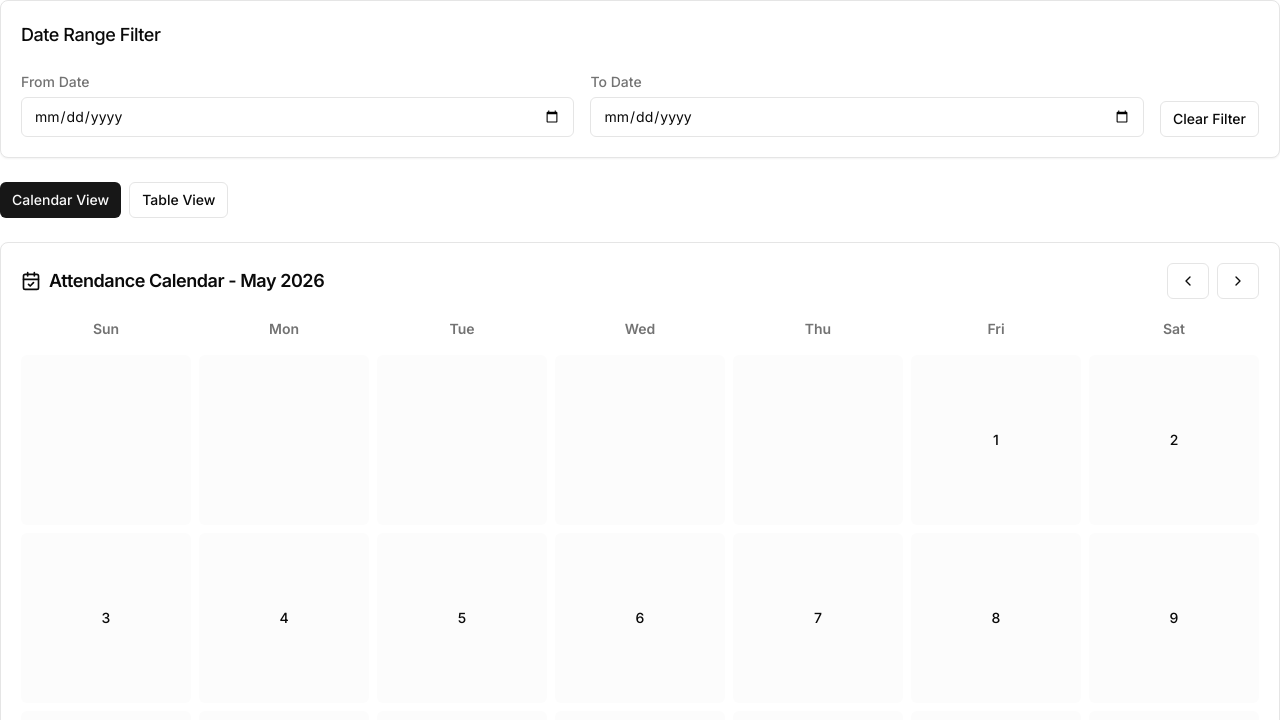
Test: AttendanceHistory Component › Table View › should show empty message when no records
The width and height of the screenshot is (1280, 720).
Step 1. Click the button "Table View" → (179, 200), box [129,182,228,218]
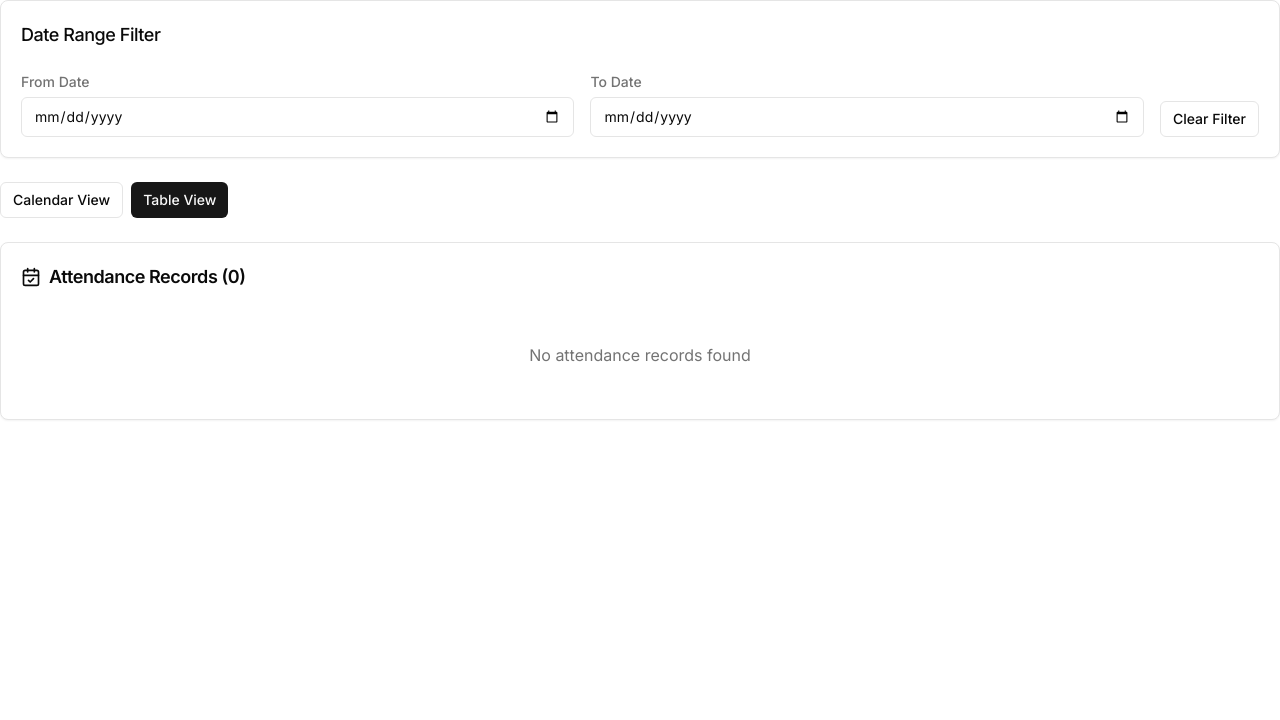
expect the text "No attendance records found" is shown: met, box [529,345,751,365]
